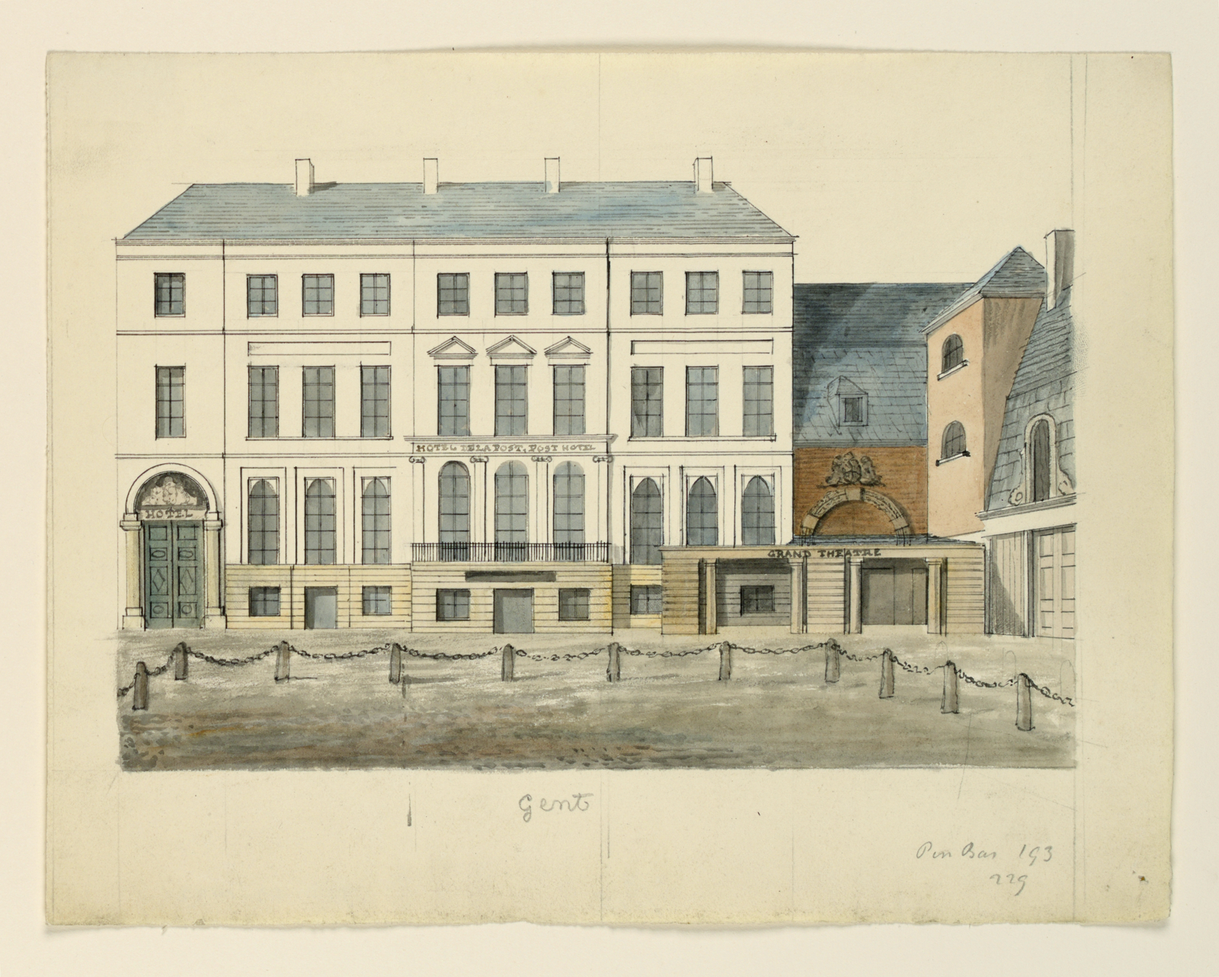fachada: (114, 152, 800, 640), (805, 244, 1095, 668)
